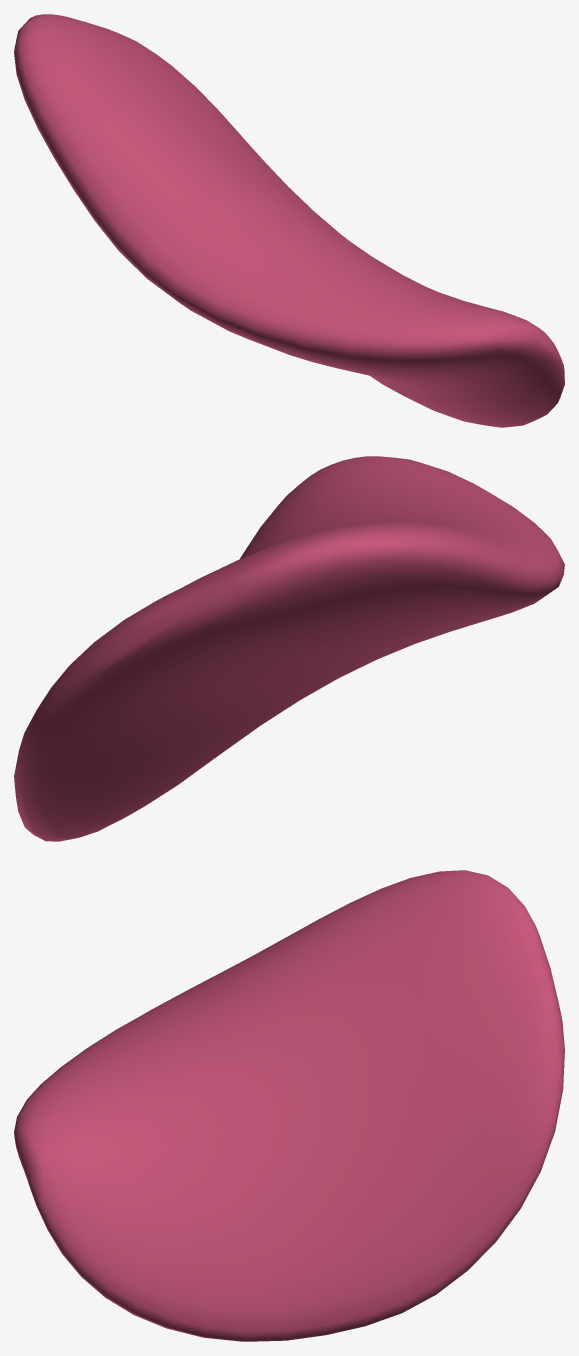
The picture shows the model from 3 angles, top to bottom: view 1: azimuth 30°, elevation 25°; view 2: azimuth 150°, elevation 25°; view 3: azimuth 270°, elevation 25°; orthographic projection. The views are drawn at different scales.
Parts seen in each view (by area): view 1: 右侧闭孔内肌坐骨囊; view 2: 右侧闭孔内肌坐骨囊; view 3: 右侧闭孔内肌坐骨囊.
Part boxes in pixels (left/top/right/bottom): 右侧闭孔内肌坐骨囊: left=14, top=14, right=564, bottom=427; 右侧闭孔内肌坐骨囊: left=14, top=456, right=564, bottom=841; 右侧闭孔内肌坐骨囊: left=14, top=870, right=564, bottom=1341.
Bounding box in the file's own units: 0.0201 × 0.0194 × 0.029.
